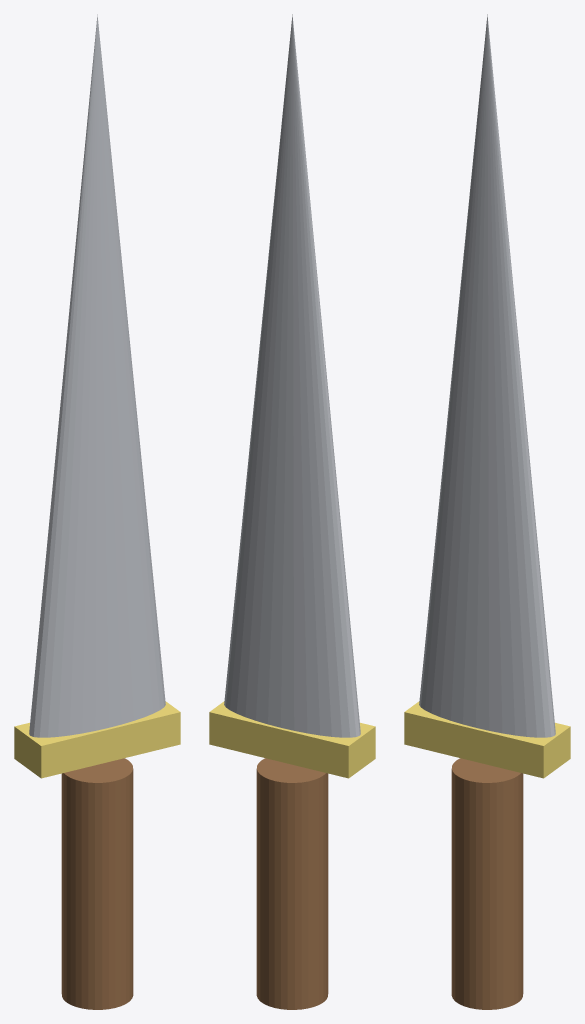
The model's file is weapon_hunter_dagger.glb.
3 views of the same model, side by side, from view 1: azimuth 30°, elevation 25°; view 2: azimuth 150°, elevation 25°; view 3: azimuth 330°, elevation 25° (orthographic).
Parts seen in each view (by area): view 1: Cone, Cylinder, Cube; view 2: Cone, Cylinder, Cube; view 3: Cone, Cylinder, Cube.
Part boxes in pixels (bbox=[...]): Cone: bbox=[29, 14, 165, 737]; Cylinder: bbox=[61, 758, 133, 1009]; Cube: bbox=[14, 701, 180, 778]; Cone: bbox=[224, 14, 360, 737]; Cylinder: bbox=[256, 758, 328, 1009]; Cube: bbox=[209, 701, 375, 778]; Cone: bbox=[419, 14, 555, 737]; Cylinder: bbox=[451, 758, 523, 1009]; Cube: bbox=[404, 701, 570, 778].
Bounding box in the file's own units: 0.09 × 0.605 × 0.04.
